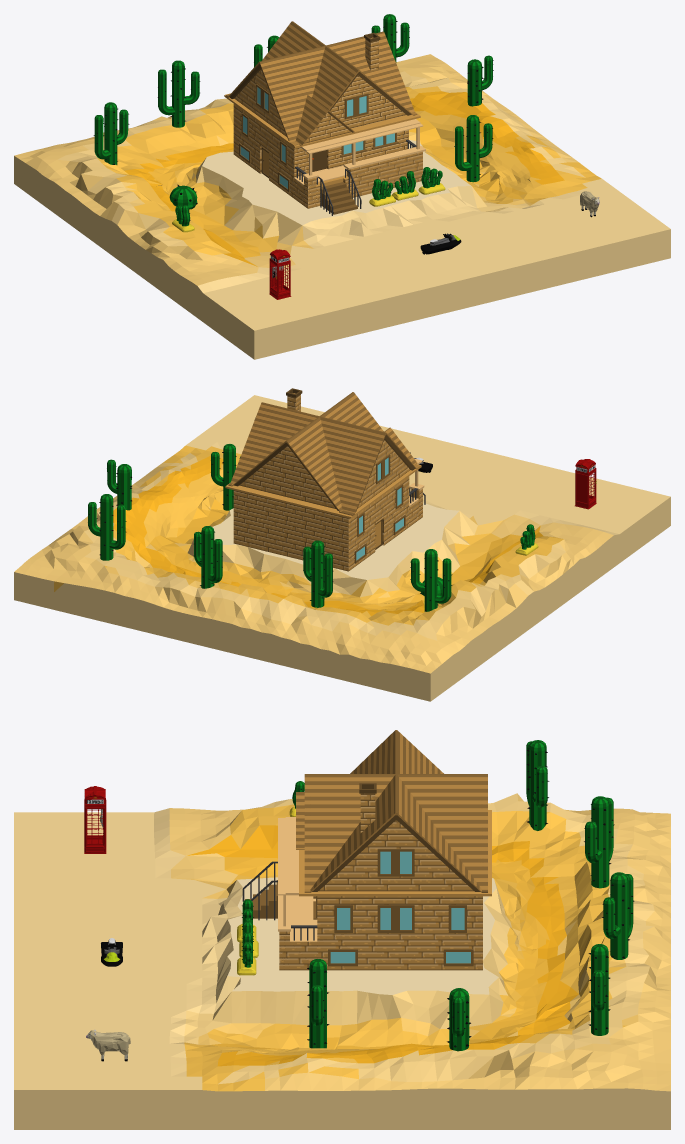
3 views of the same model, one above another, from view 1: azimuth 30°, elevation 25°; view 2: azimuth 150°, elevation 25°; view 3: azimuth 270°, elevation 25° (orthographic). The views are drawn at different scales.
Parts seen in each view (by area): view 1: Cube.001, Cube.508, Cylinder.037, Cylinder.044, Cylinder.045, OBJRANDOM_PHONEBOOTH, Cylinder.038, Cylinder.042, Cylinder.039, Cylinder.041, Sphere.023, Cylinder.040; view 2: Cube.001, Cube.508, Cylinder.042, Cylinder.045, Cylinder.044, Cylinder.043, Cylinder.037, OBJRANDOM_PHONEBOOTH, Cylinder.038; view 3: Cube.001, Cube.508, Cylinder.043, Cylinder.044, Cylinder.045, Cylinder.042, Cylinder.037, OBJRANDOM_PHONEBOOTH, Cylinder.038, ANIMAL_OVEJA, Cylinder.041.
Part boxes in pixels (left/top/right/bottom): Cube.001: left=14, top=54, right=670, bottom=359; Cube.508: left=224, top=21, right=425, bottom=215; Cylinder.037: left=454, top=115, right=493, bottom=182; Cylinder.044: left=157, top=60, right=200, bottom=127; Cylinder.045: left=93, top=102, right=129, bottom=164; OBJRANDOM_PHONEBOOTH: left=269, top=249, right=291, bottom=299; Cylinder.038: left=467, top=55, right=493, bottom=106; Cylinder.042: left=371, top=14, right=409, bottom=62; Cylinder.039: left=369, top=179, right=395, bottom=206; Cylinder.041: left=418, top=167, right=445, bottom=194; Sphere.023: left=169, top=184, right=197, bottom=209; Cylinder.040: left=392, top=171, right=418, bottom=200; Cube.001: left=14, top=395, right=670, bottom=701; Cube.508: left=225, top=388, right=425, bottom=571; Cylinder.042: left=88, top=494, right=126, bottom=560; Cylinder.045: left=410, top=549, right=452, bottom=611; Cylinder.044: left=303, top=540, right=333, bottom=607; Cylinder.043: left=193, top=526, right=222, bottom=588; Cylinder.037: left=211, top=444, right=240, bottom=510; OBJRANDOM_PHONEBOOTH: left=575, top=459, right=596, bottom=509; Cylinder.038: left=107, top=459, right=131, bottom=510; Cube.001: left=14, top=793, right=670, bottom=1129; Cube.508: left=242, top=730, right=491, bottom=970; Cylinder.043: left=602, top=872, right=634, bottom=959; Cylinder.044: left=584, top=796, right=614, bottom=888; Cylinder.045: left=526, top=740, right=549, bottom=830; Cylinder.042: left=588, top=944, right=610, bottom=1035; Cylinder.037: left=307, top=959, right=329, bottom=1048; OBJRANDOM_PHONEBOOTH: left=84, top=786, right=106, bottom=853; Cylinder.038: left=447, top=988, right=471, bottom=1051; ANIMAL_OVEJA: left=86, top=1029, right=130, bottom=1061; Cylinder.041: left=237, top=932, right=256, bottom=975.
Bounding box in the file's own units: 4002 × 1605 × 4001.
37 materials, 3 textured.
